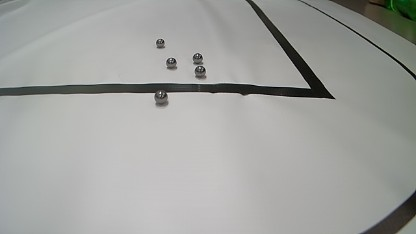ironball: (154, 90, 167, 104), (195, 65, 205, 77), (192, 53, 203, 63), (166, 57, 176, 68), (156, 38, 164, 48)
